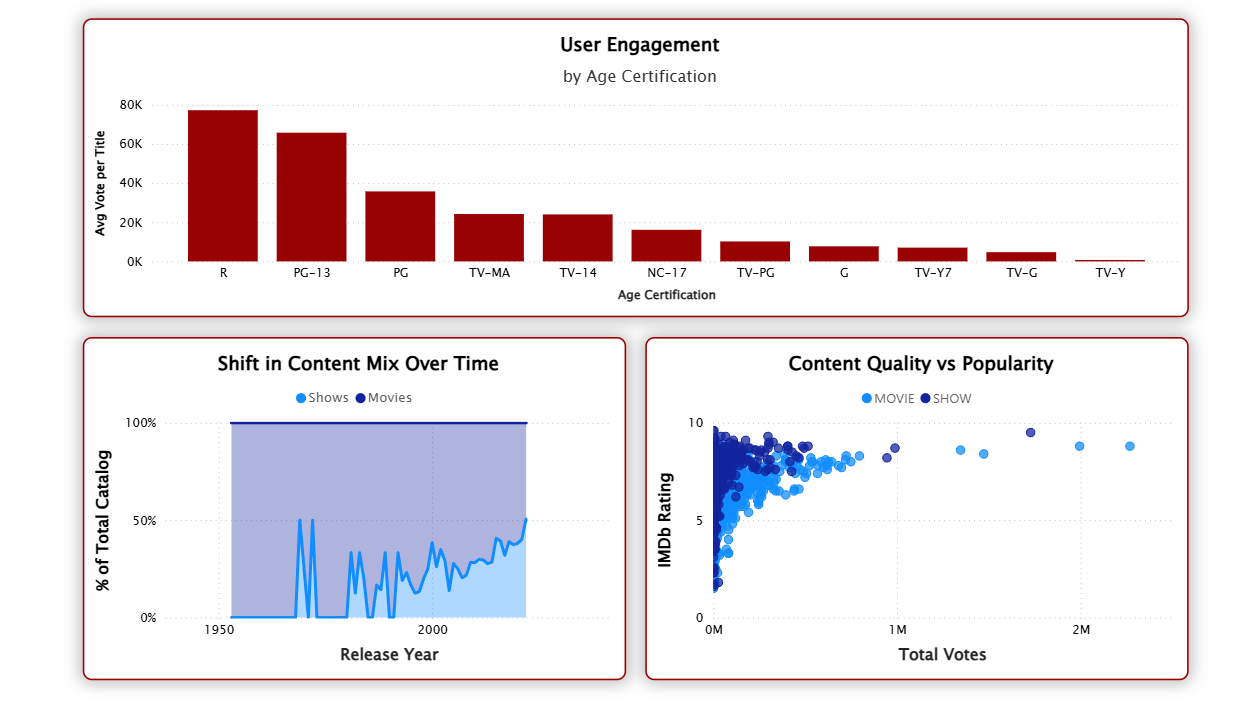

Layout of this report page (visuals, bound fields, positions):
{"tool":"powerbi","page":{"name":"Deep-Dive Analysis","canvas":[1280,720],"ordinal":1},"visuals":[{"type":"scatterChart","title":"Content Quality vs Popularity","fields":{"X":["Sum(Netflix TV Shows and Movies.imdb_votes)"],"Y":["Avg(Netflix TV Shows and Movies.imdb_score)"],"Series":["Netflix TV Shows and Movies.type"],"Category":["Netflix TV Shows and Movies.imdb_id"]},"box":[647.7,348.5,540.7,341.7],"z":0},{"type":"hundredPercentStackedAreaChart","title":"Shift in Content Mix Over Time","fields":{"Y":["All Measures.Shows","All Measures.Movies"],"Category":["Netflix TV Shows and Movies.release_year"]},"box":[87.8,348.5,540.7,341.7],"z":1000},{"type":"clusteredColumnChart","title":"User Engagement","fields":{"Category":["Netflix TV Shows and Movies.age_certification"],"Y":["All Measures.Avg Vote per title"]},"box":[87.8,31.6,1100.5,297.8],"z":2000}]}

Visuals, with their boxes in screenshot pixels (x1, y1, x2, y2), scaled from the page's 1280x720 canvas onto the 1257x705 screenshot:
"Content Quality vs Popularity" scatterChart: (x1=636, y1=341, x2=1167, y2=676)
"Shift in Content Mix Over Time" hundredPercentStackedAreaChart: (x1=86, y1=341, x2=617, y2=676)
"User Engagement" clusteredColumnChart: (x1=86, y1=31, x2=1167, y2=323)
